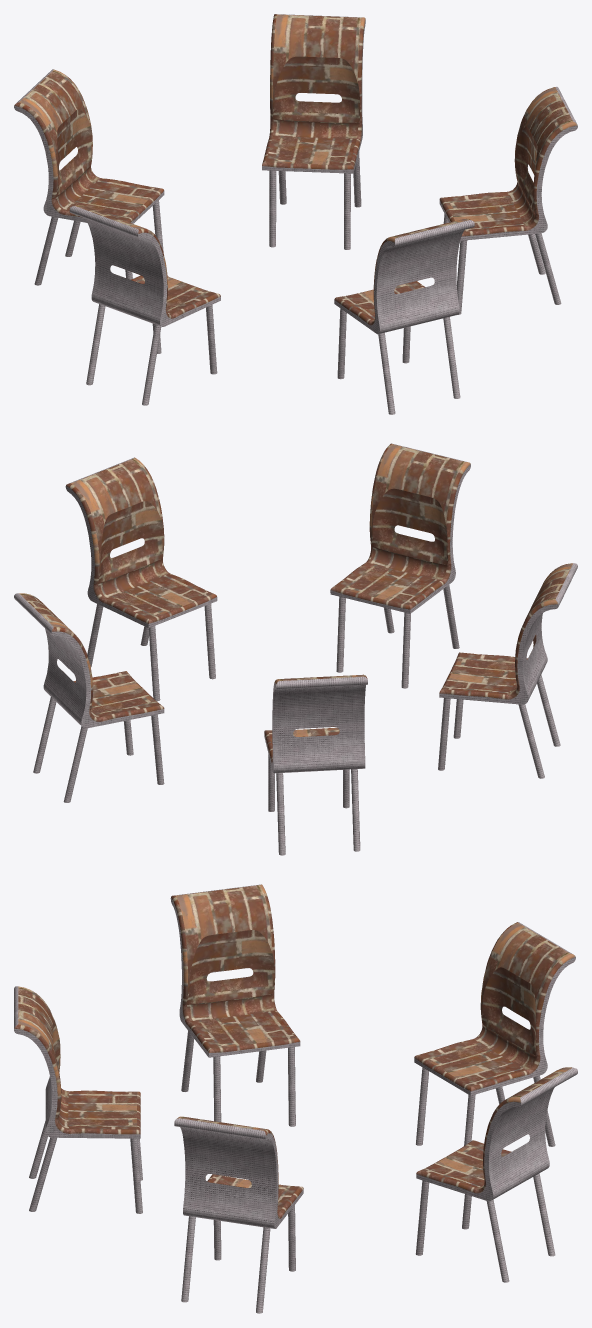
The model's file is chairs-transformed.glb.
3 renders of one model, top to bottom at view 1: azimuth 30°, elevation 25°; view 2: azimuth 150°, elevation 25°; view 3: azimuth 270°, elevation 25°, orthographic. The views are drawn at different scales.
Parts seen in each view (by area): view 1: Body50_Polyurethane_0, Body49__0; view 2: Body50_Polyurethane_0, Body49__0; view 3: Body50_Polyurethane_0, Body49__0.
Boxes of the visible parts, x1,y1,x2,y2 form: Body50_Polyurethane_0: (14,14,577,325); Body49__0: (14,14,577,414); Body50_Polyurethane_0: (19,443,572,762); Body49__0: (14,443,577,855); Body50_Polyurethane_0: (14,884,575,1218); Body49__0: (14,884,577,1313).
Bounding box in the file's own units: 3.52 × 1.28 × 3.36.
1 material, 1 textured.
